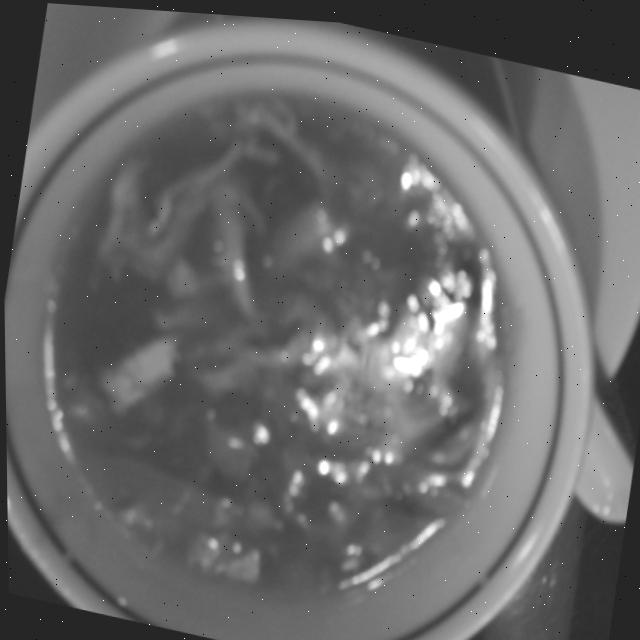汤锅炖物: (0, 2, 626, 640)
